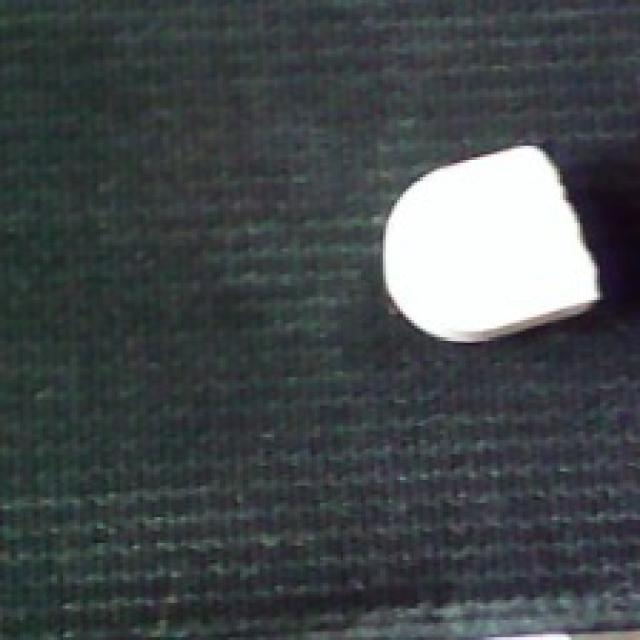defected: (377, 140, 606, 349)
